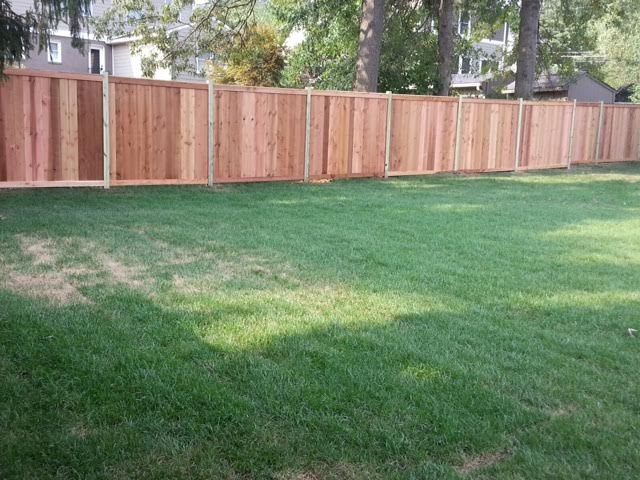Fence: (2, 64, 640, 200)
